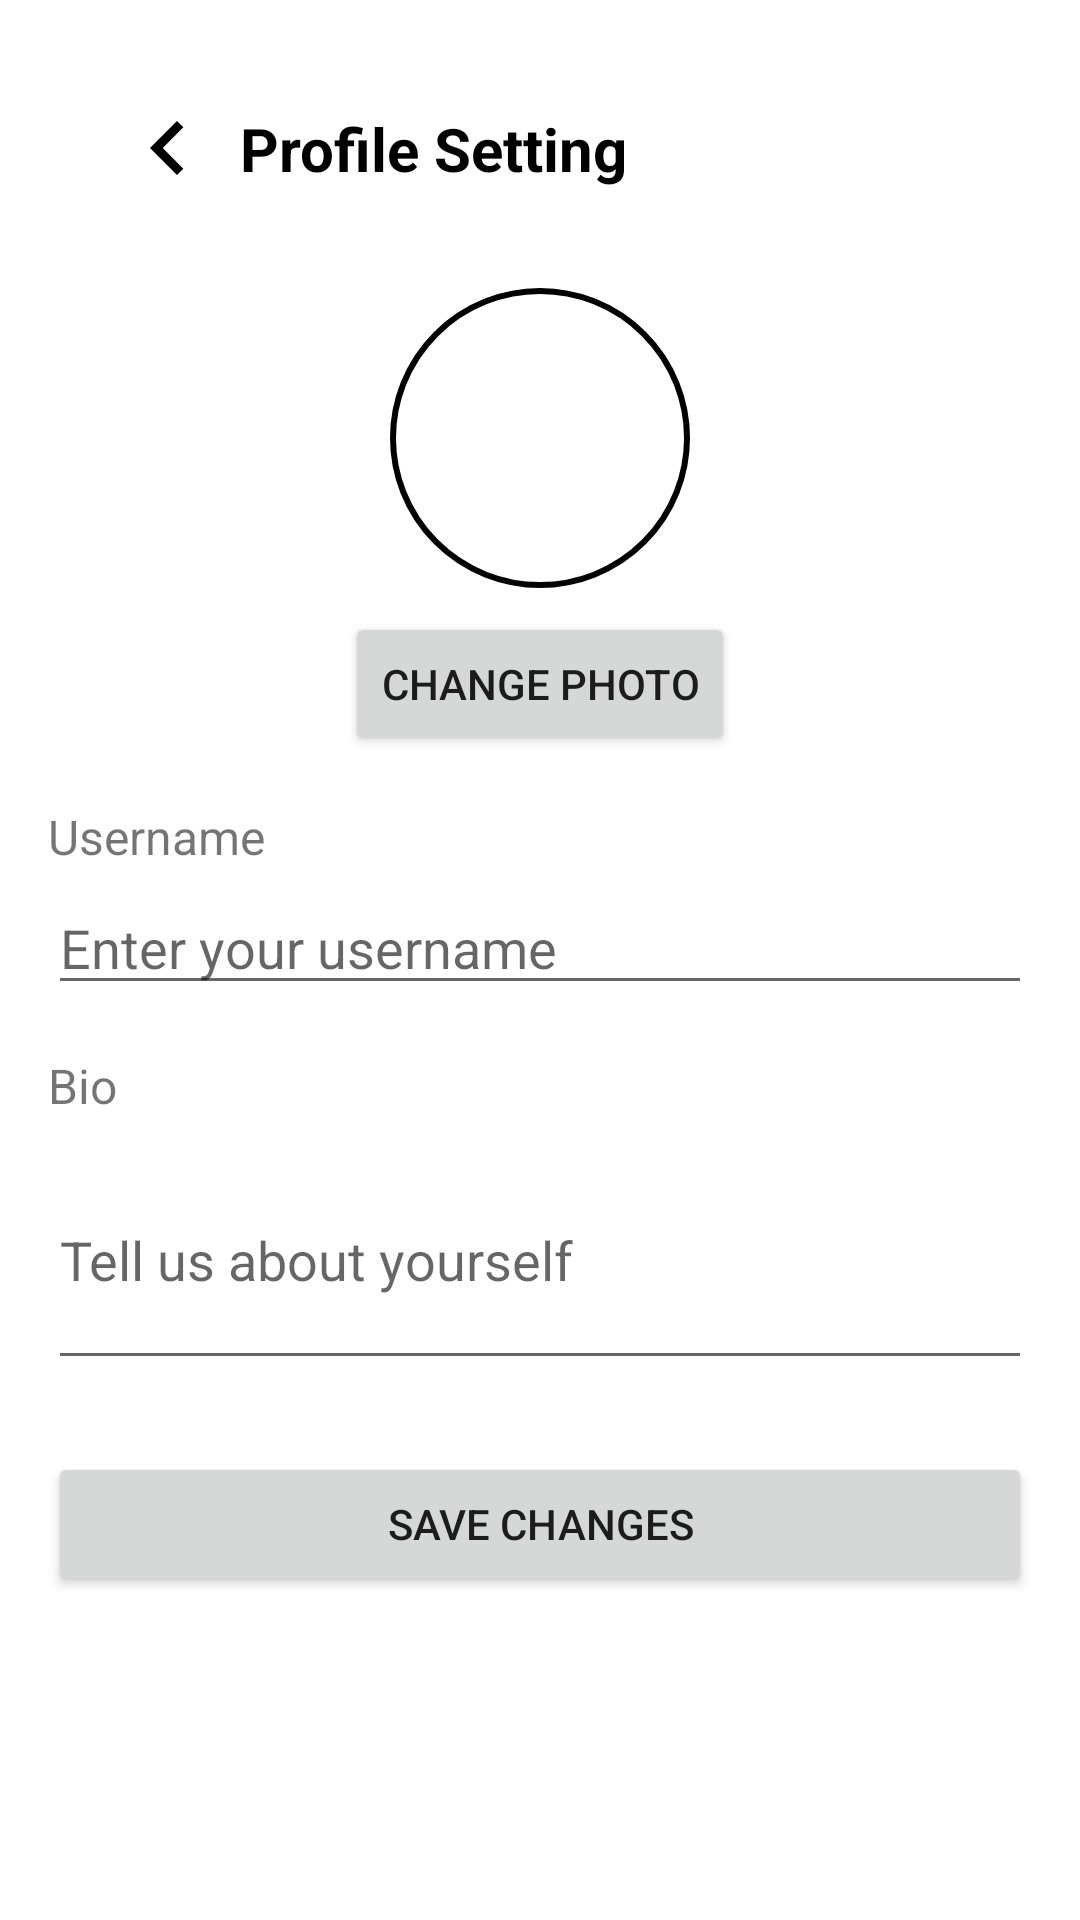

Where icons sit on this 1080w x 1920h app screen, as (x1,y1,x2,y2):
Back: (150,121,184,175)
